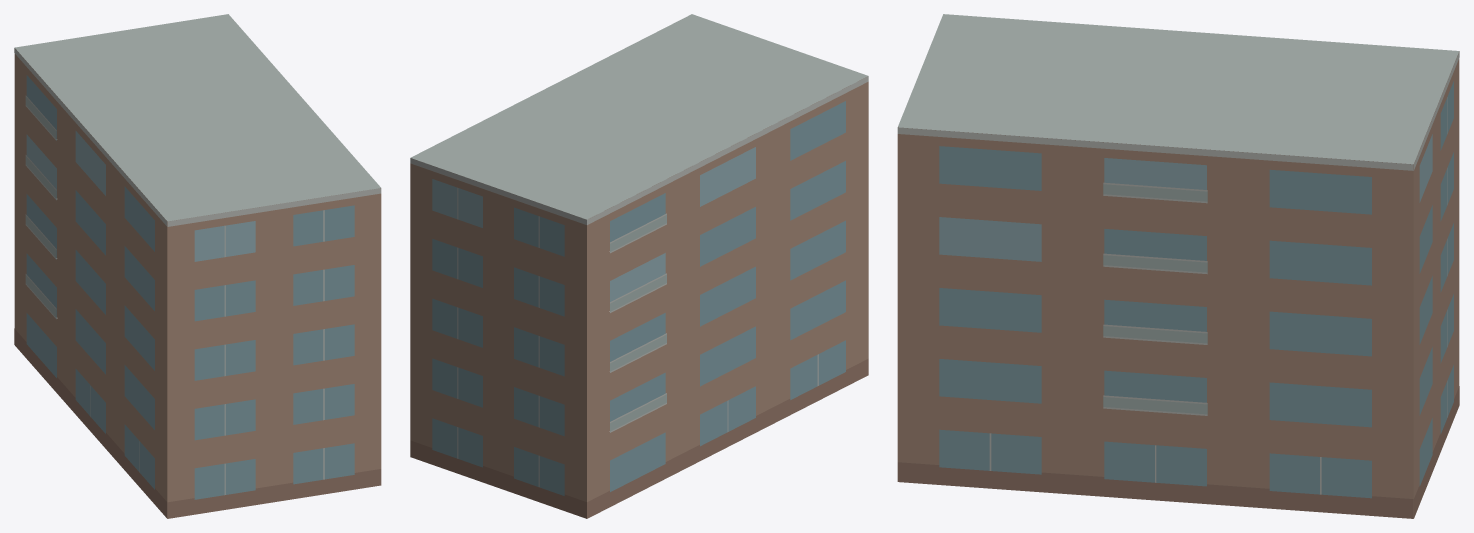
File: survey-upis-32630800.glb
3 views of the same model, side by side, from view 1: azimuth 30°, elevation 25°; view 2: azimuth 150°, elevation 25°; view 3: azimuth 270°, elevation 25° (orthographic). The views are drawn at different scales.
Visible parts, largest first — view 1: survey-upis-32630800.tmp; view 2: survey-upis-32630800.tmp; view 3: survey-upis-32630800.tmp.
Part boxes in pixels (x1=…): survey-upis-32630800.tmp: x1=14, y1=14, x2=381, y2=518; survey-upis-32630800.tmp: x1=410, y1=14, x2=868, y2=518; survey-upis-32630800.tmp: x1=897, y1=14, x2=1459, y2=518.
Bounding box in the file's own units: 11.96 × 13.15 × 18.89.
